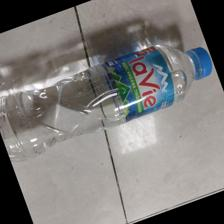Lavie: (1, 43, 213, 160)
